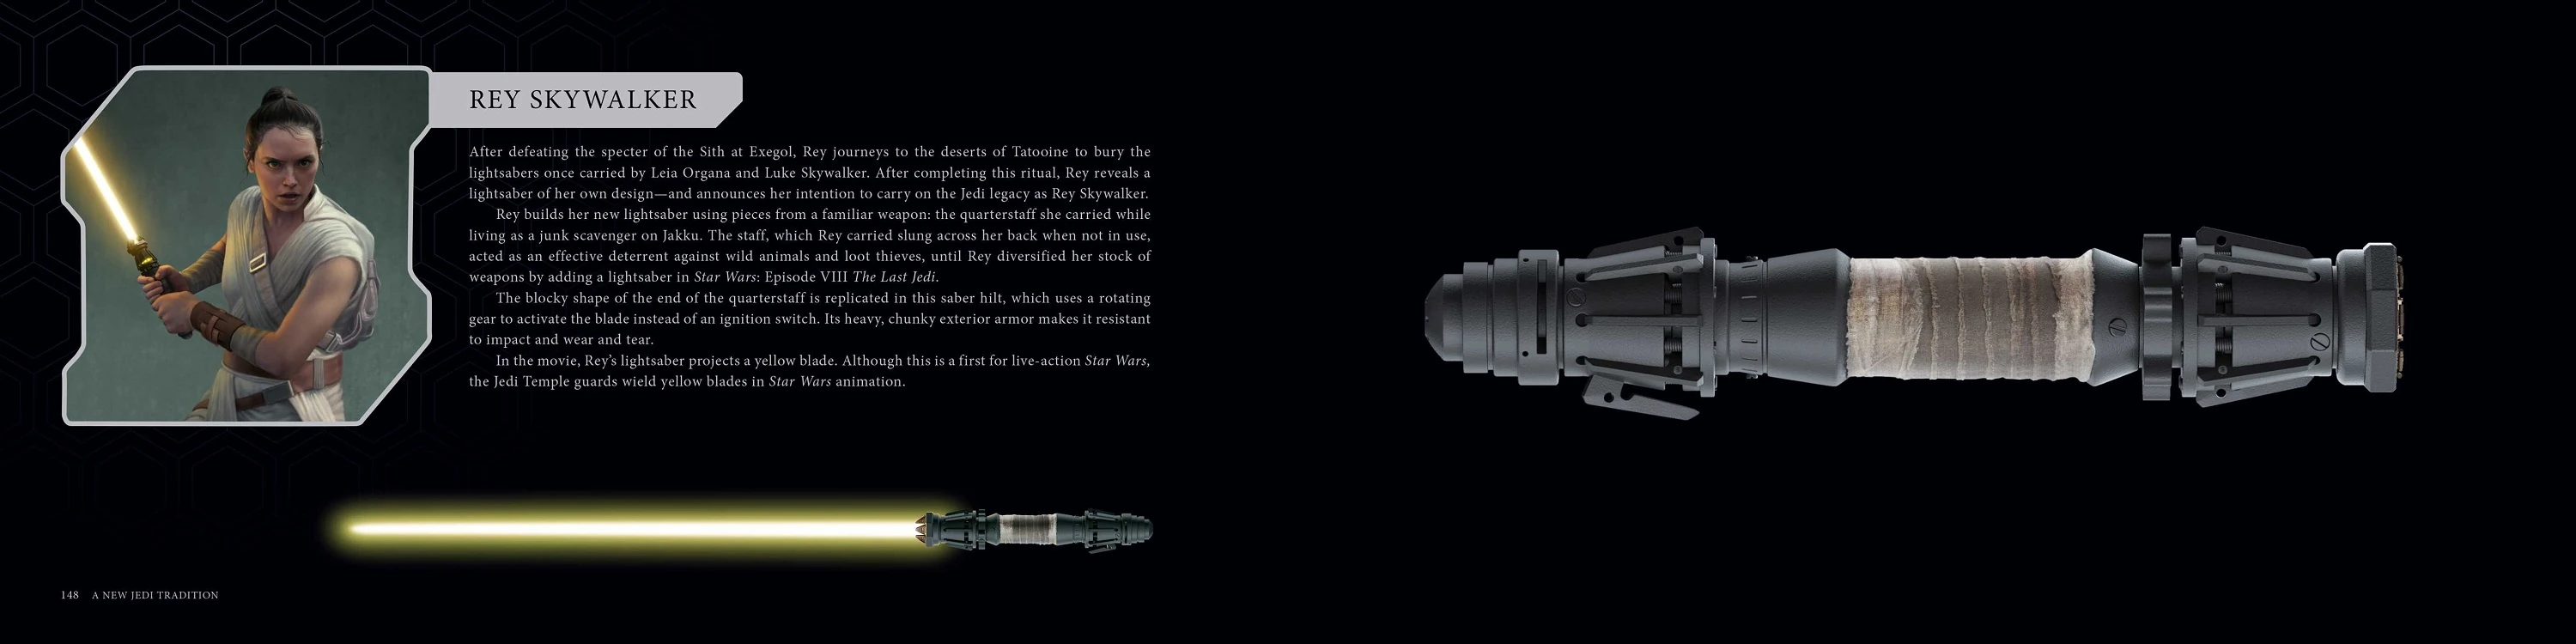Dalek: (1416, 209, 2425, 429), (325, 493, 1160, 560), (57, 122, 199, 340)
